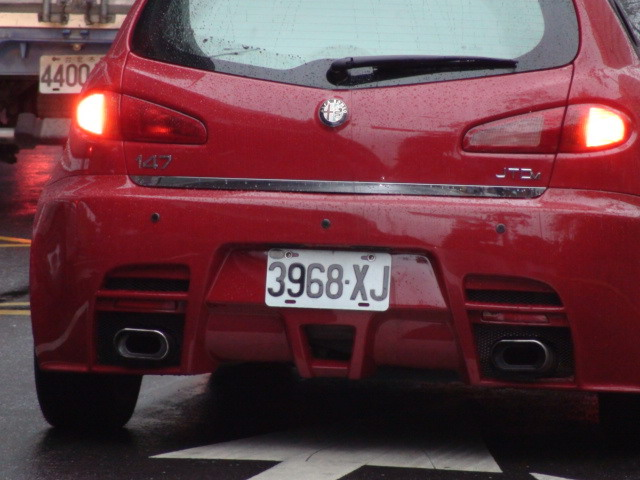plate: (264, 243, 396, 317), (34, 49, 110, 97)
